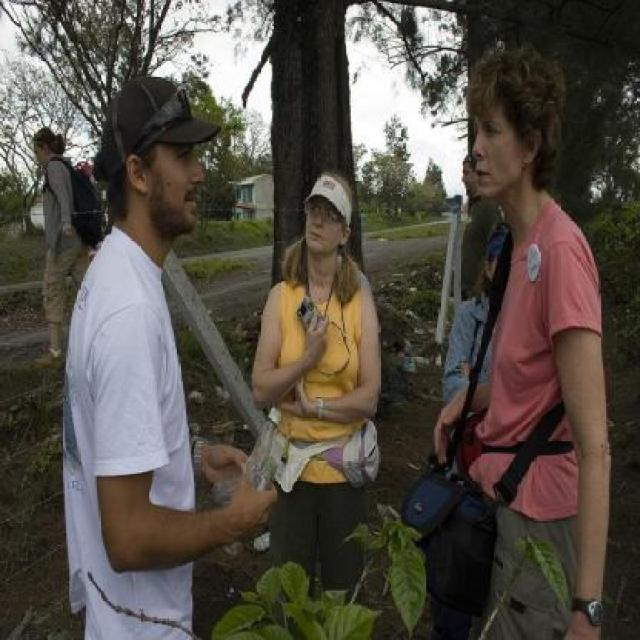backpack: (397, 462, 501, 618)
